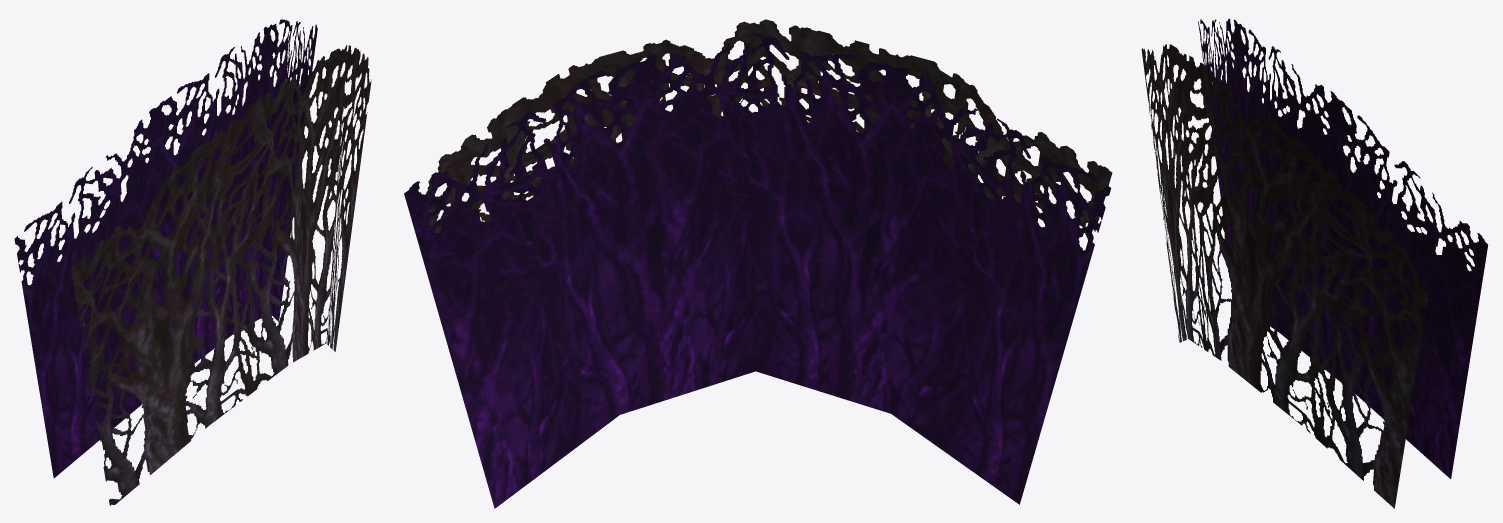
File: EKH_ENTRANCE_PS_EN_TREE_LINE0039386.fbx
3 renders of one model, left to right at view 1: azimuth 30°, elevation 25°; view 2: azimuth 150°, elevation 25°; view 3: azimuth 270°, elevation 25°, orthographic. The views are drawn at different scales.
Visible parts, largest first — view 1: EKH_ENTRANCE_PS_EN_TREE_LINE0039386; view 2: EKH_ENTRANCE_PS_EN_TREE_LINE0039386; view 3: EKH_ENTRANCE_PS_EN_TREE_LINE0039386.
Part boxes in pixels (left/top/right/bottom): EKH_ENTRANCE_PS_EN_TREE_LINE0039386: left=14, top=19, right=371, bottom=505; EKH_ENTRANCE_PS_EN_TREE_LINE0039386: left=404, top=19, right=1112, bottom=508; EKH_ENTRANCE_PS_EN_TREE_LINE0039386: left=1141, top=18, right=1487, bottom=508.
Bounding box in the file's own units: 272258 × 212232 × 173142.
2 materials, 2 textured.
